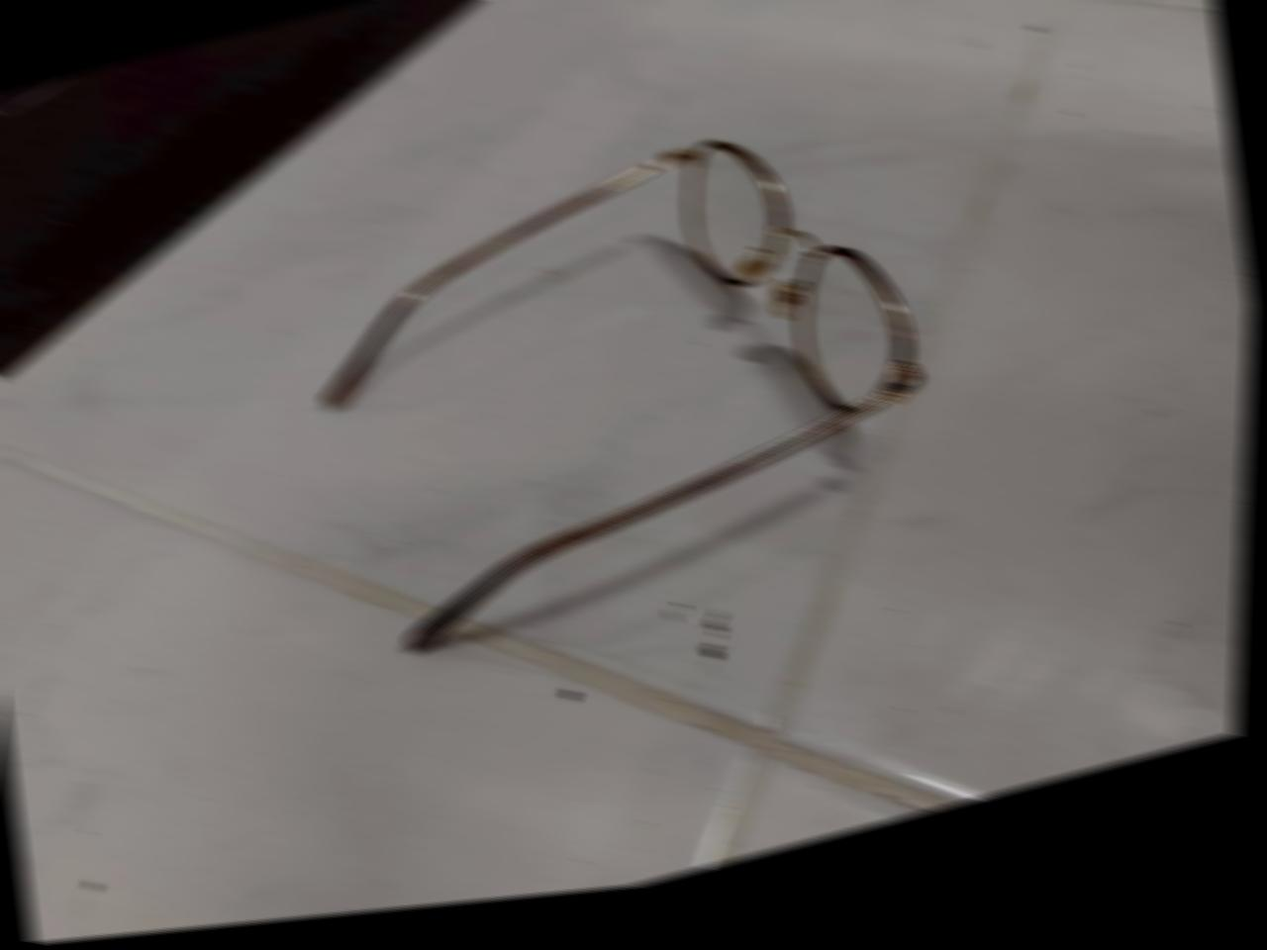glasses: (280, 73, 981, 673)
